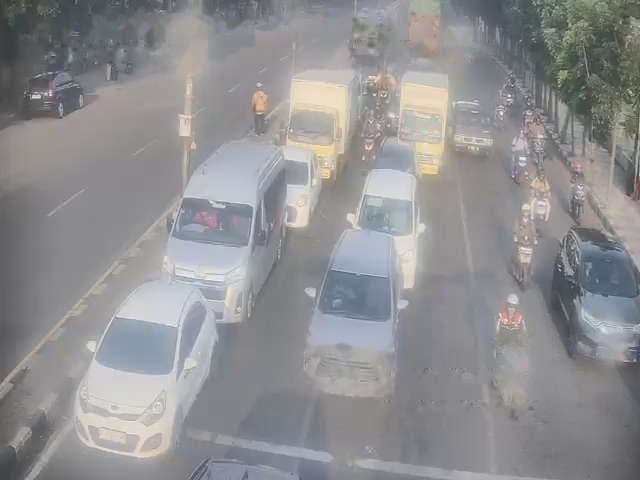Bis: (172, 144, 292, 306)
